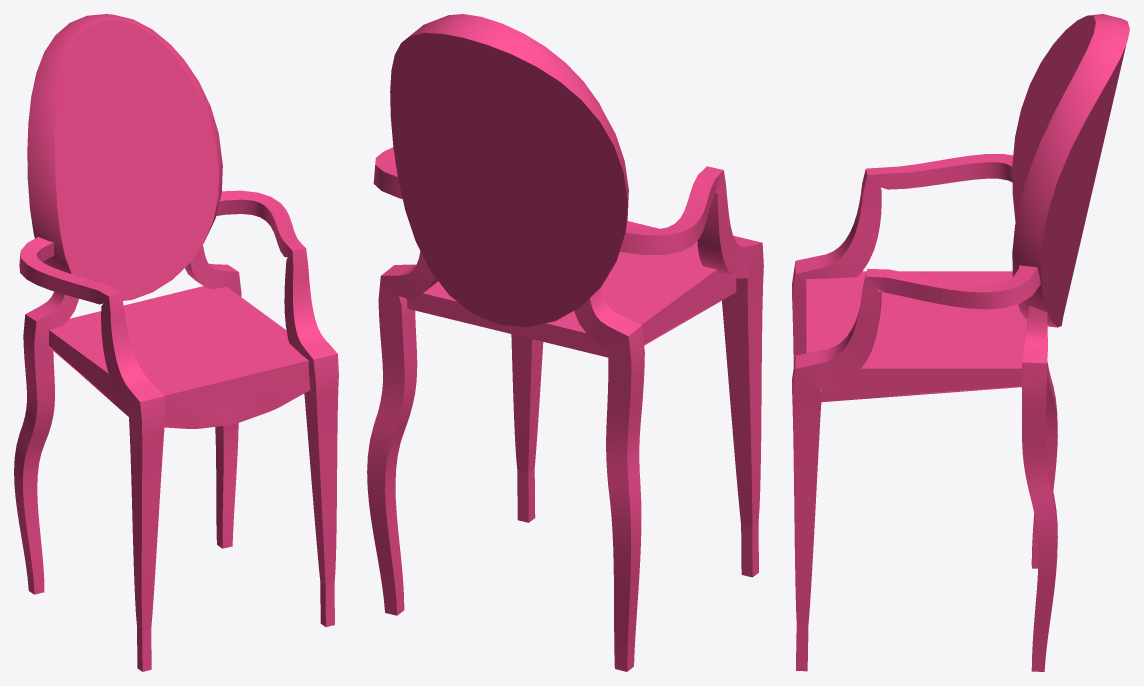
Rendered from chair.glb.
3 views of the same model, side by side, from view 1: azimuth 30°, elevation 25°; view 2: azimuth 150°, elevation 25°; view 3: azimuth 270°, elevation 25° (orthographic). The views are drawn at different scales.
Parts seen in each view (by area): view 1: back, legs.001, seat, back-leg; view 2: back, back-leg, legs.001, seat; view 3: legs.001, back, seat, back-leg.
Boxes of the visible parts, left/top/right/bottom form: back: left=27, top=14, right=222, bottom=300; legs.001: left=19, top=190, right=338, bottom=671; seat: left=48, top=286, right=310, bottom=428; back-leg: left=14, top=245, right=241, bottom=594; back: left=390, top=14, right=628, bottom=327; back-leg: left=367, top=251, right=644, bottom=671; legs.001: left=373, top=147, right=763, bottom=577; seat: left=406, top=221, right=736, bottom=357; legs.001: left=792, top=154, right=1040, bottom=671; back: left=1012, top=14, right=1129, bottom=327; seat: left=805, top=271, right=1027, bottom=402; back-leg: left=1022, top=306, right=1057, bottom=671.
Size of the model in its own units: 3.37 by 6.72 by 3.46.
